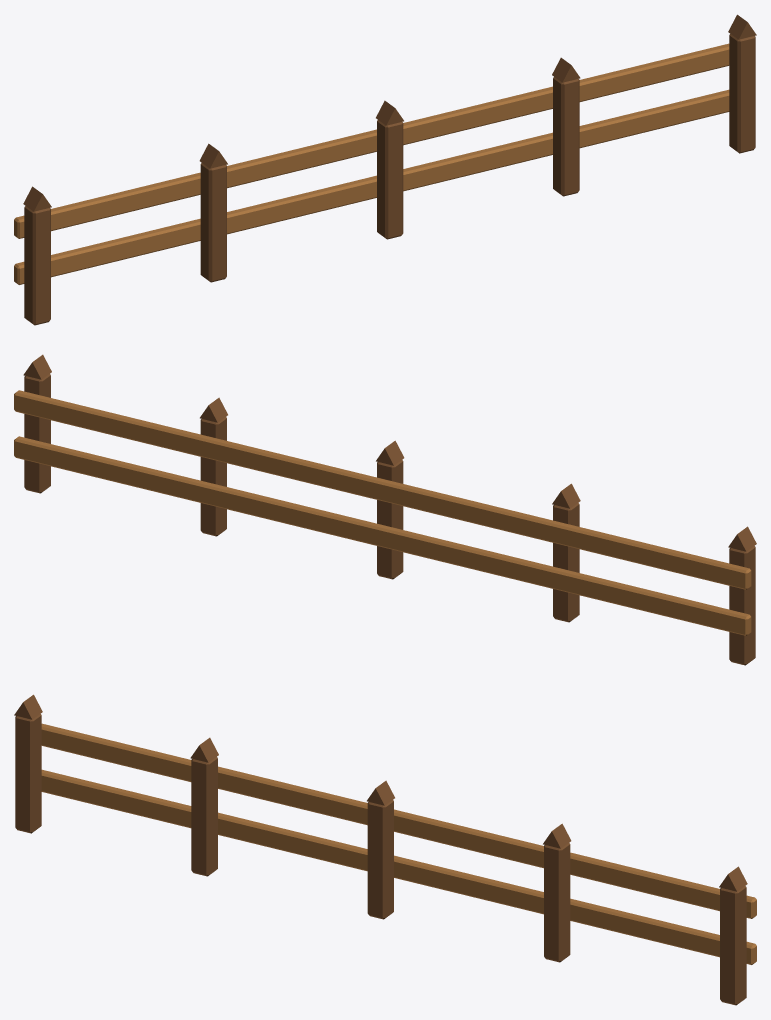
The model's file is cerca_madeira.glb.
3 renders of one model, top to bottom at view 1: azimuth 30°, elevation 25°; view 2: azimuth 150°, elevation 25°; view 3: azimuth 330°, elevation 25°, orthographic.
Parts seen in each view (by area): view 1: corpo; view 2: corpo; view 3: corpo.
Boxes of the visible parts, box(x1,y1,x2,y2) form: corpo: box(14, 14, 756, 325); corpo: box(14, 354, 756, 665); corpo: box(14, 694, 756, 1005).
Bounding box in the file's own units: 2 × 0.34 × 0.0725.
